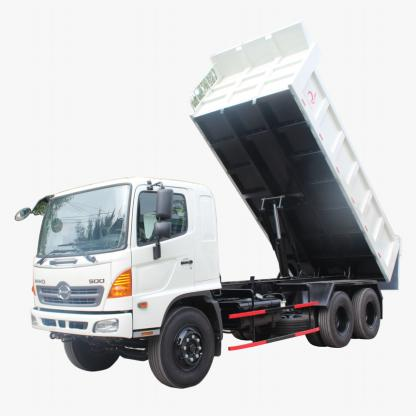dump_truck: (25, 20, 406, 392)
